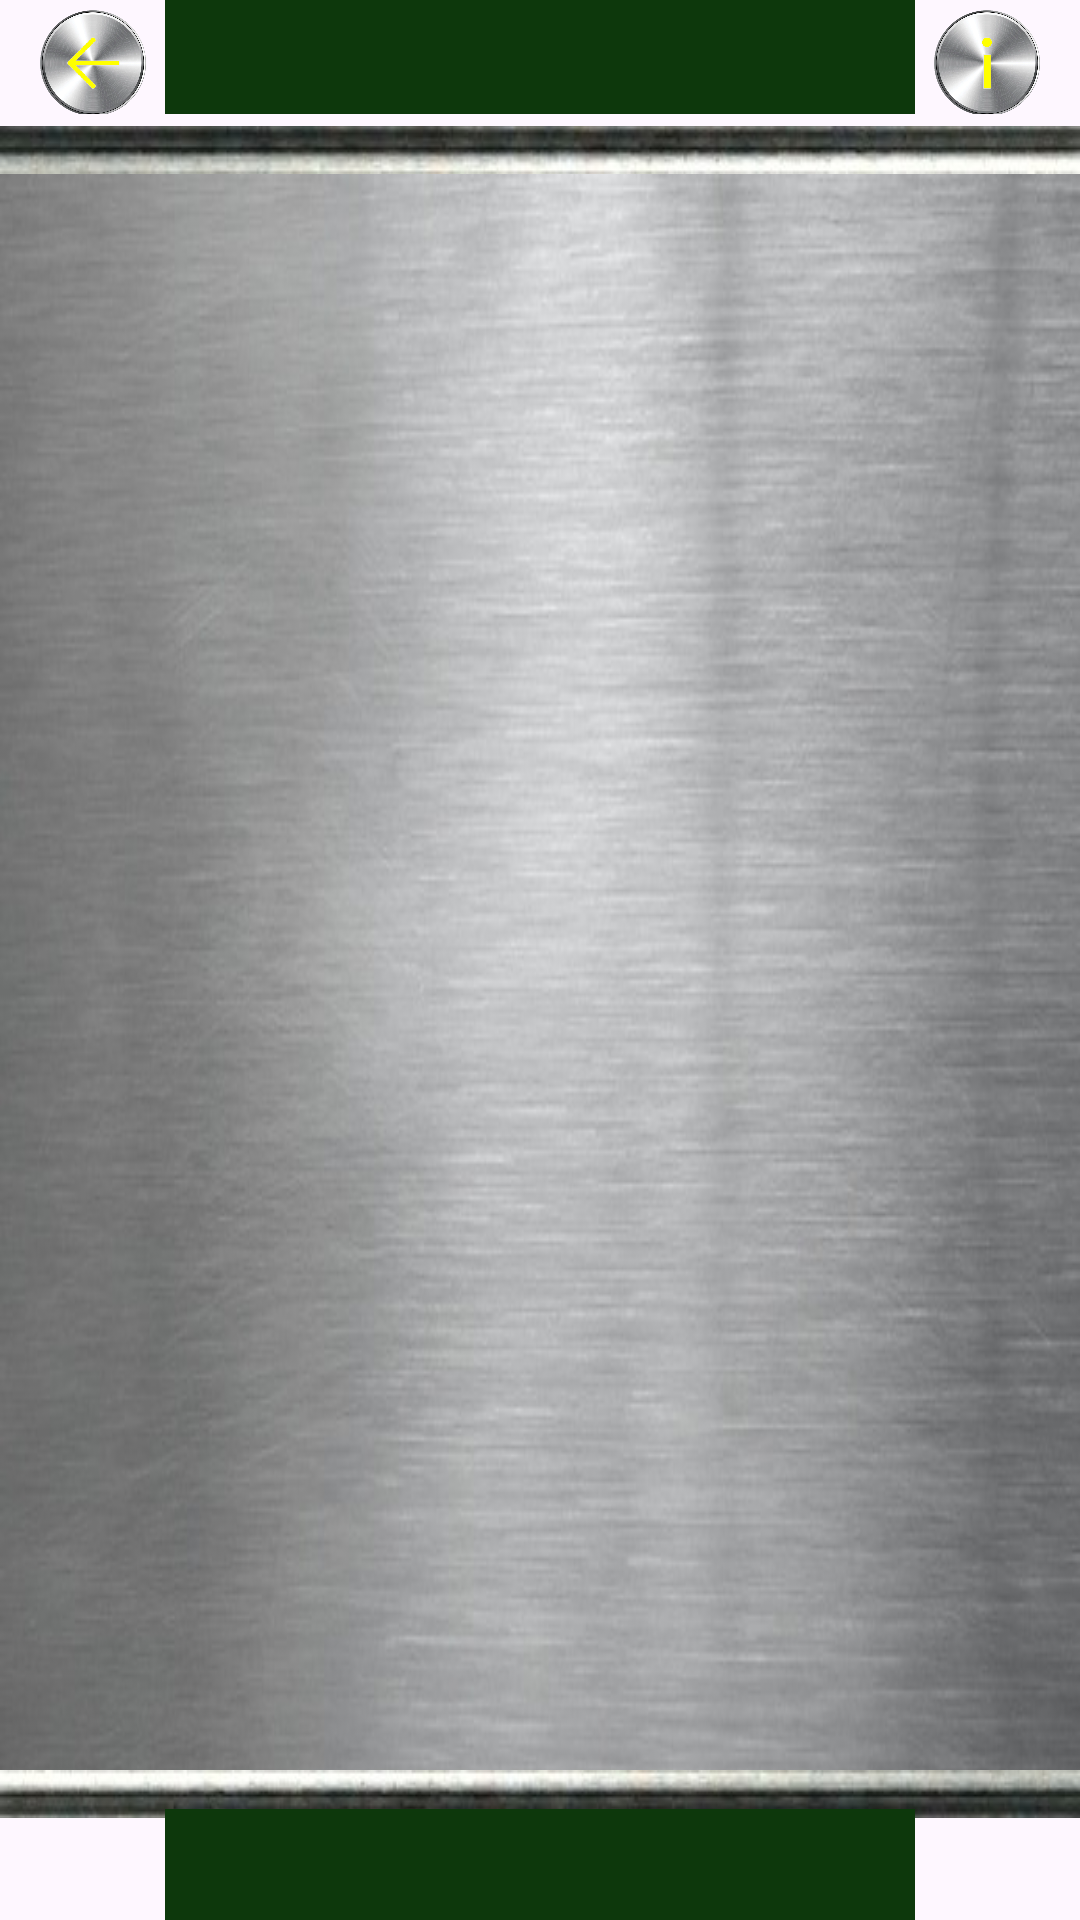

Screen size 1080px x 1920px. Icon name, then its center in pixels as [x,y]:
files back: [93,62]
files info: [987,62]
